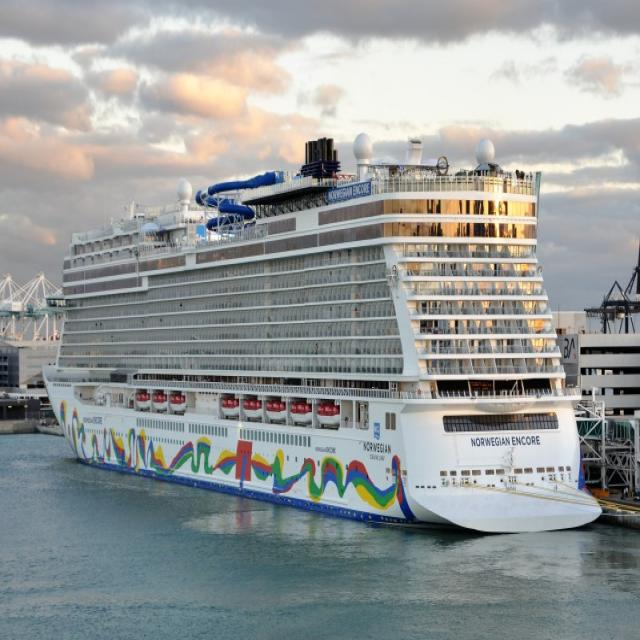cruises: (39, 128, 604, 540)
